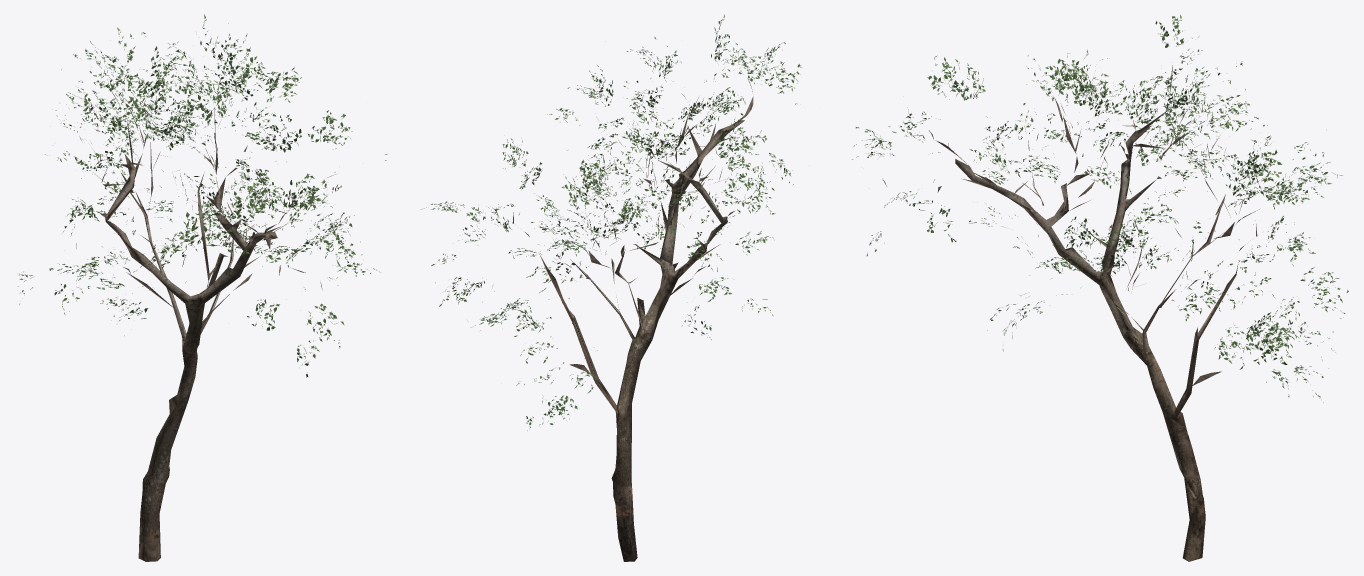
The model's file is tree.glb.
3 renders of one model, left to right at view 1: azimuth 30°, elevation 25°; view 2: azimuth 150°, elevation 25°; view 3: azimuth 270°, elevation 25°, orthographic. The views are drawn at different scales.
Visible parts, largest first — view 1: tree_small_02_LOD0; view 2: tree_small_02_LOD0; view 3: tree_small_02_LOD0.
Boxes of the visible parts, <box> form: tree_small_02_LOD0: <box>18,14,387,561</box>; tree_small_02_LOD0: <box>421,14,801,561</box>; tree_small_02_LOD0: <box>852,14,1348,561</box>.
Size of the model in its own units: 2.87 by 4.54 by 4.01.
Materials: 3 (3 with a texture image).
